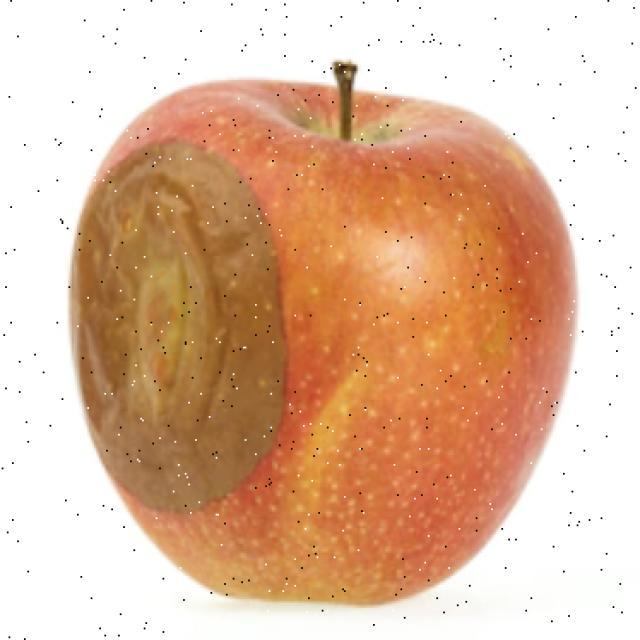Rotten: (95, 80, 553, 577)
